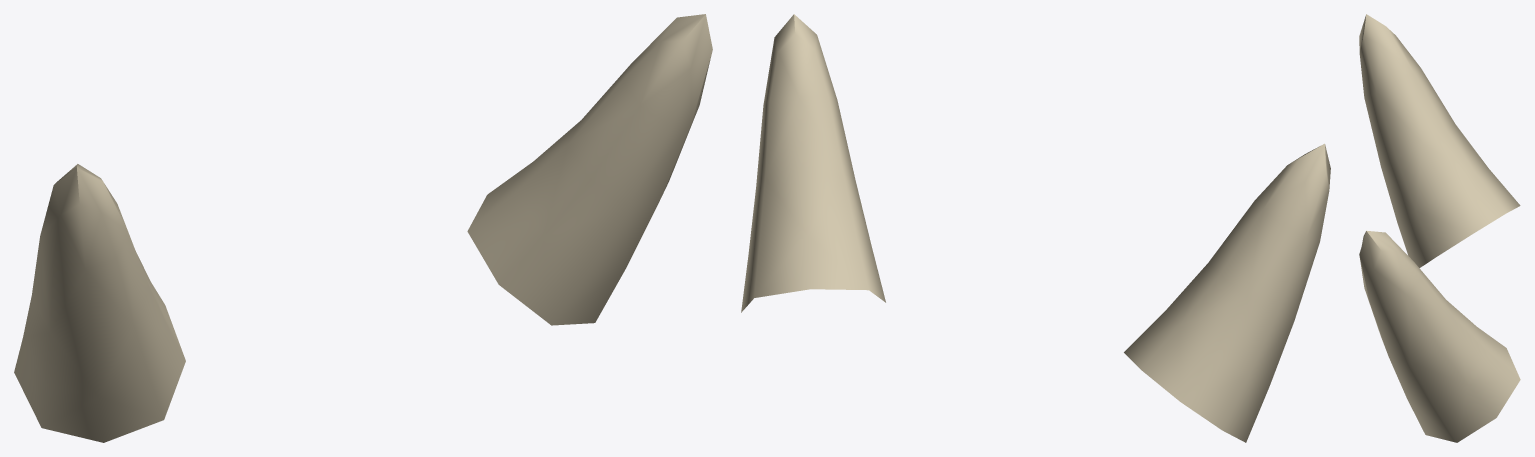
Rendered from ORC_TeethLow.glb.
3 renders of one model, left to right at view 1: azimuth 30°, elevation 25°; view 2: azimuth 150°, elevation 25°; view 3: azimuth 270°, elevation 25°, orthographic. The views are drawn at different scales.
Visible parts, largest first — view 1: ORC_TeethLow; view 2: ORC_TeethLow; view 3: ORC_TeethLow.
Part boxes in pixels (x1,y1,x2,y2): ORC_TeethLow: (14,14,712,442); ORC_TeethLow: (741,14,1330,442); ORC_TeethLow: (1359,14,1520,442).
Bounding box in the file's own units: 0.1947 × 0.0919 × 0.059.
